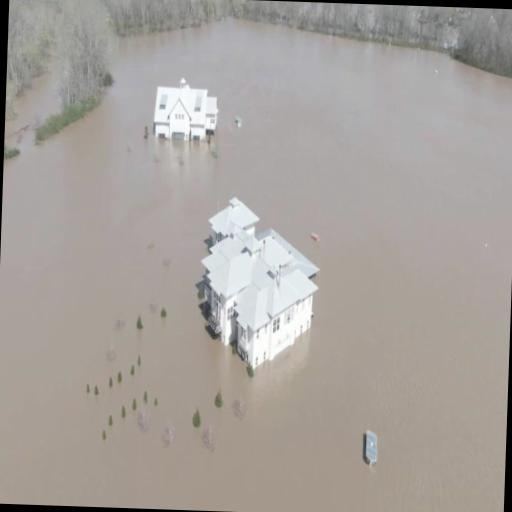flood: (0, 17, 512, 504), (0, 102, 512, 512)
house: (194, 194, 330, 372), (150, 76, 218, 146)
